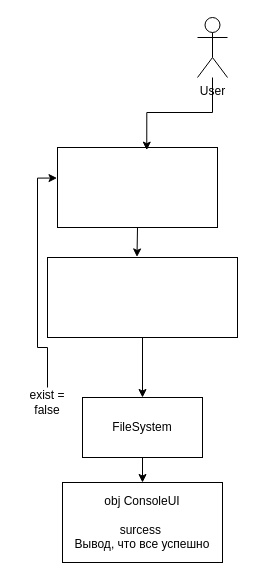
Image size: 255x580. Some labels were removed from this diagram. Here are the shapes that lost their labels. From the top down, the centre of each, then its label:
At (137,187): "obj ConsoleUI methods createDocument(filename)".
At (142,297): "obj DocumentManager createDocument(filename)".
